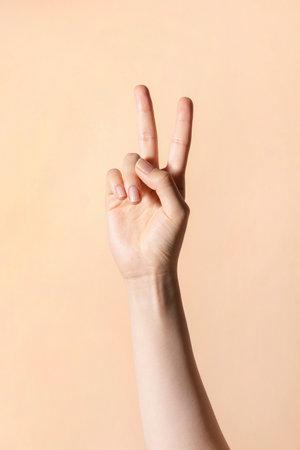peace_sign: (95, 80, 210, 296)
